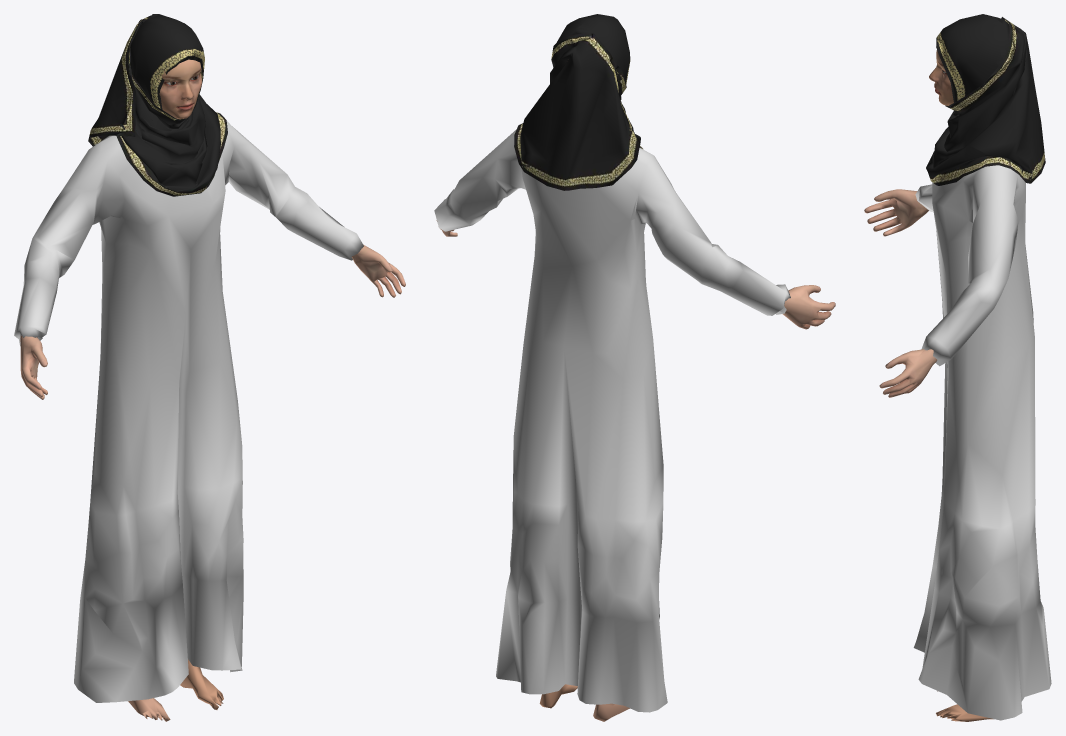
File: hijab.glb
3 views of the same model, side by side, from view 1: azimuth 30°, elevation 25°; view 2: azimuth 150°, elevation 25°; view 3: azimuth 270°, elevation 25° (orthographic).
Parts seen in each view (by area): view 1: Female Legs 3d Model Good Topology.002_hijab_C_low1blin.002_, Female Legs 3d Model Good Topology.002; view 2: Female Legs 3d Model Good Topology.002_hijab_C_low1blin.002_, Female Legs 3d Model Good Topology.002; view 3: Female Legs 3d Model Good Topology.002_hijab_C_low1blin.002_, Female Legs 3d Model Good Topology.002.
Part boxes in pixels (x1=…): Female Legs 3d Model Good Topology.002_hijab_C_low1blin.002_: x1=14, y1=121, x2=363, y2=702; Female Legs 3d Model Good Topology.002: x1=20, y1=14, x2=405, y2=721; Female Legs 3d Model Good Topology.002_hijab_C_low1blin.002_: x1=434, y1=129, x2=790, y2=712; Female Legs 3d Model Good Topology.002: x1=436, y1=14, x2=835, y2=721; Female Legs 3d Model Good Topology.002_hijab_C_low1blin.002_: x1=913, y1=165, x2=1051, y2=720; Female Legs 3d Model Good Topology.002: x1=864, y1=14, x2=1045, y2=721.
Bounding box in the file's own units: 5.14 × 8.8 × 2.18.
6 materials, 5 textured.
